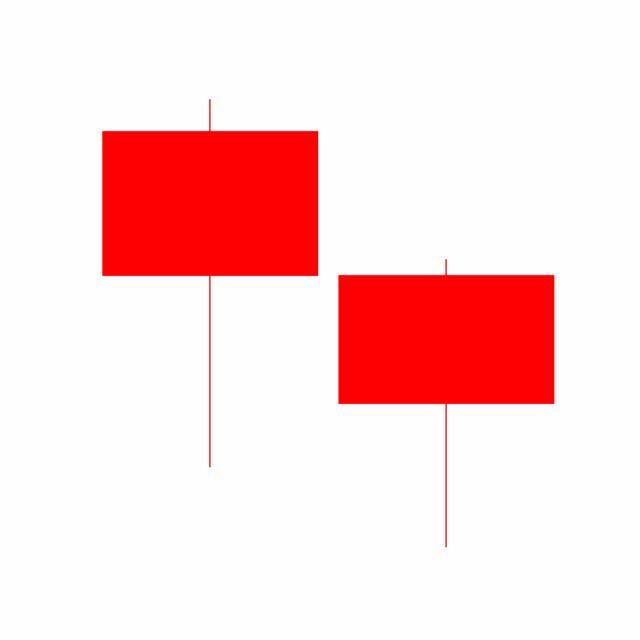Hammer: (328, 257, 566, 552)
